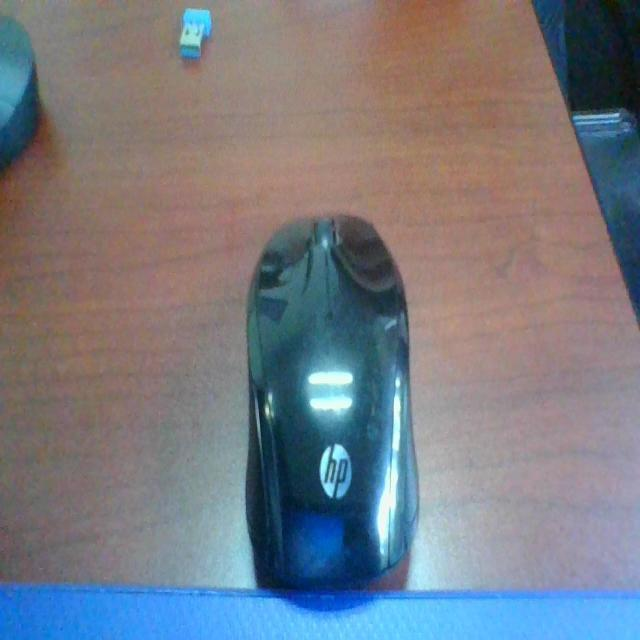Mouse: (244, 202, 446, 586)
